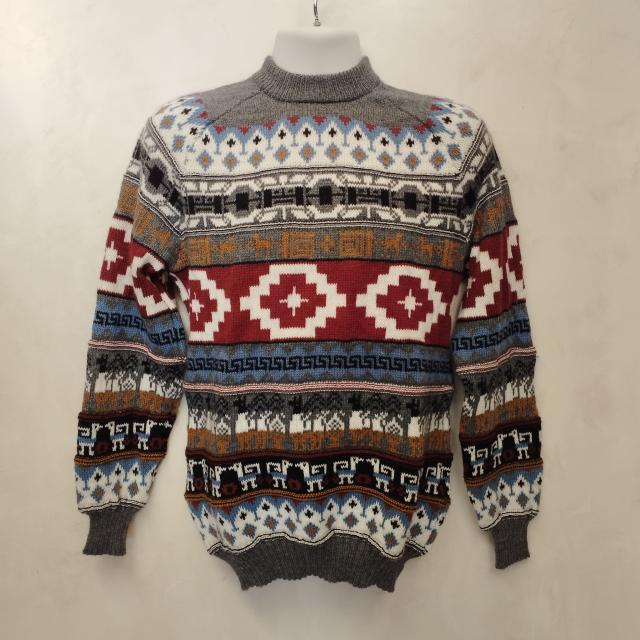Chompa: (74, 26, 544, 594)
